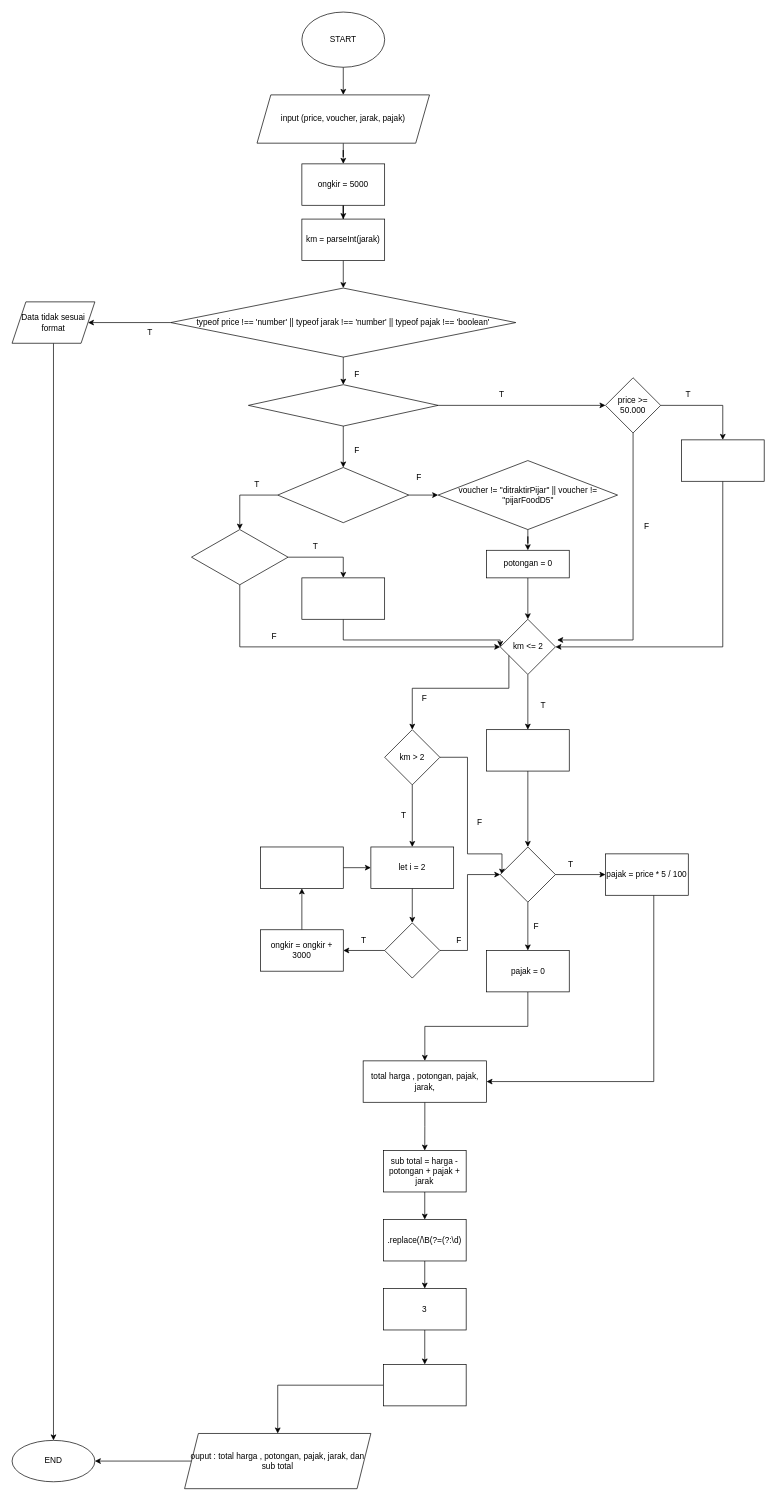
The diagram is 776 pixels wide and 1501 high, and some of its shapes have lost their labels. Each missing label, with the centre of its shape:
+\b)/g,'.': [424,1385]
i < km: [412,950]
i++: [301,867]
km = ongkir: [527,750]
pajak: [527,874]
potongan = price * (30/100): [343,598]
potongan = price * (50/100): [722,460]
price <= 25000: [239,557]
voucher == "diteraktirPijar": [343,495]
Voucher == "pijarFoodD5": [343,405]
